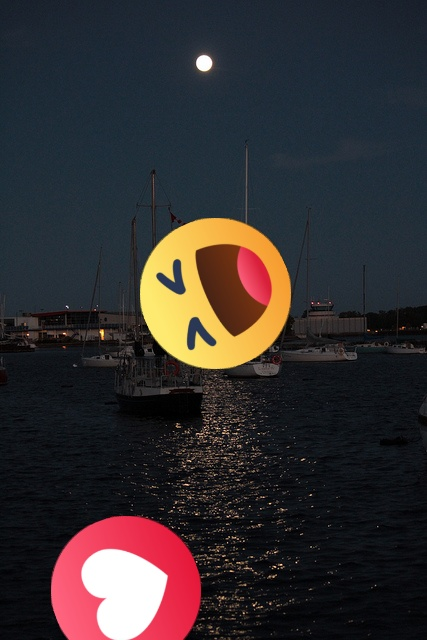haha: (140, 218, 291, 369)
love: (51, 516, 201, 640)
